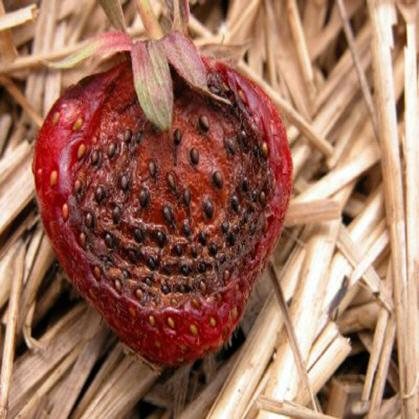Anthracnose Fruit Rot: (56, 58, 282, 310)
